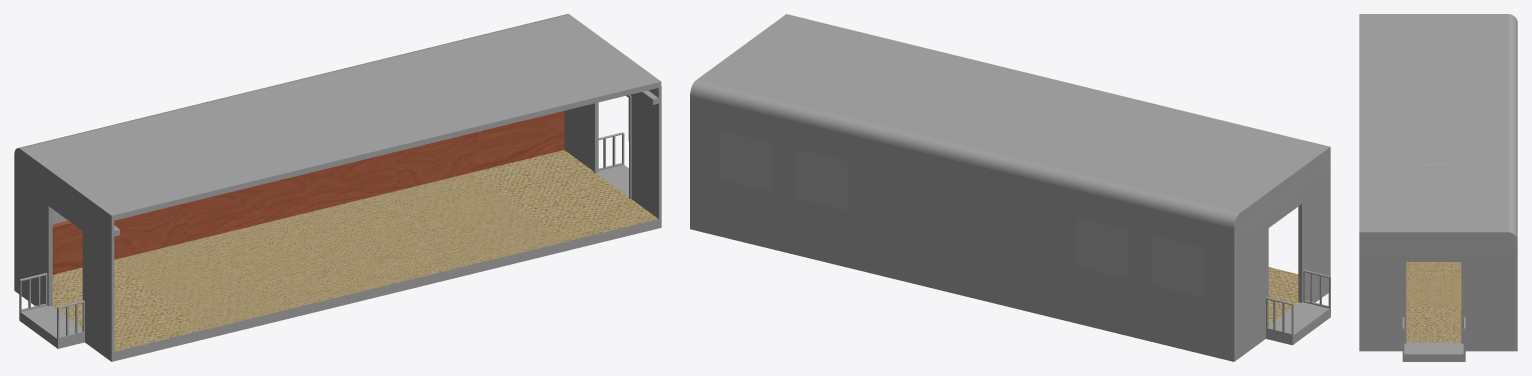
The model's file is loungeCar.fbx.
3 views of the same model, side by side, from view 1: azimuth 30°, elevation 25°; view 2: azimuth 150°, elevation 25°; view 3: azimuth 270°, elevation 25° (orthographic). The views are drawn at different scales.
Visible parts, largest first — view 1: loungeCar; view 2: loungeCar; view 3: loungeCar.
Part boxes in pixels (box(x1,y1,x2,y2)): loungeCar: box(14, 14, 661, 361); loungeCar: box(690, 14, 1330, 361); loungeCar: box(1359, 14, 1517, 361).
Size of the model in its own units: 27.55 by 6.37 by 7.71.
23 materials, 15 textured.
